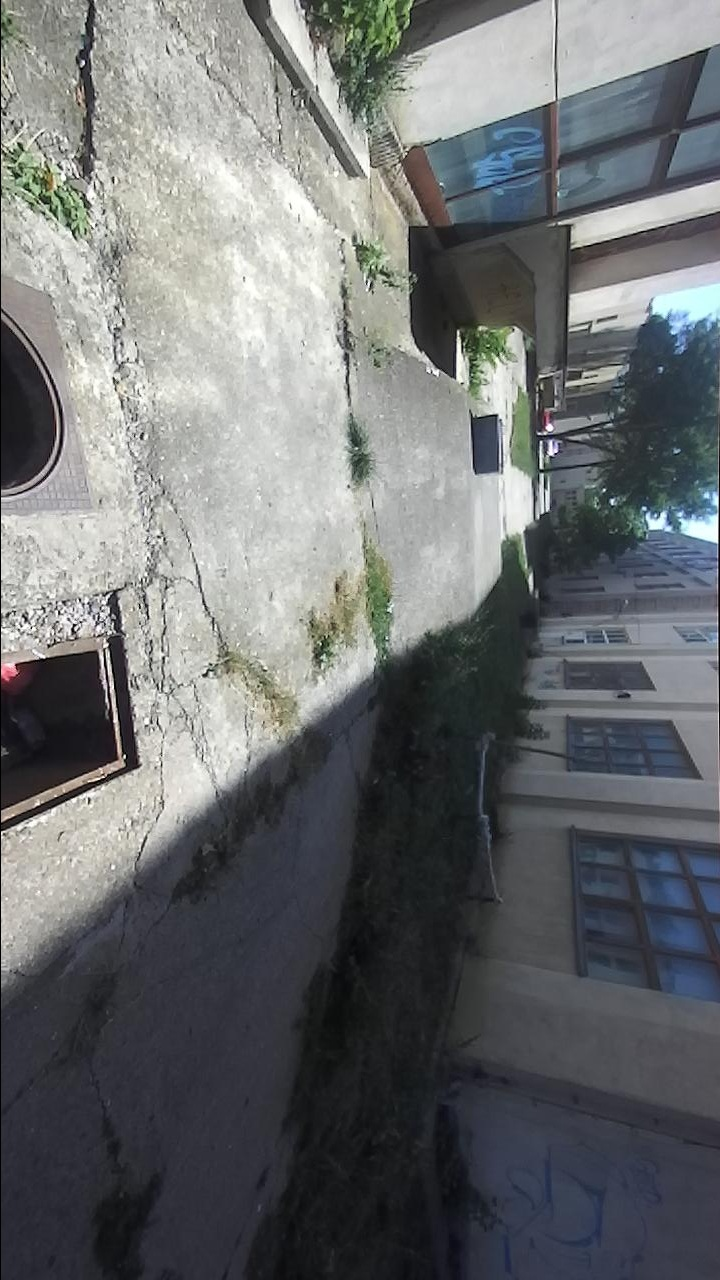drain: (1, 628, 141, 841), (0, 307, 75, 508)
